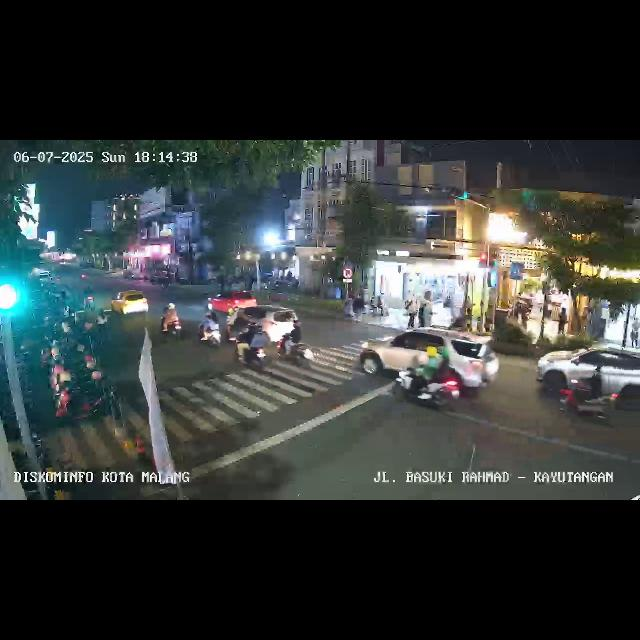car: (356, 330, 500, 390), (536, 347, 640, 415), (218, 303, 302, 345), (109, 290, 150, 318), (208, 292, 256, 314)
motorcycle: (392, 342, 464, 416), (556, 364, 618, 426), (232, 316, 272, 372), (276, 318, 314, 367), (197, 306, 223, 349), (160, 302, 184, 342)
person: (407, 292, 418, 328), (420, 297, 432, 329), (556, 305, 568, 335), (518, 302, 530, 331), (353, 294, 365, 322), (632, 323, 640, 347)
